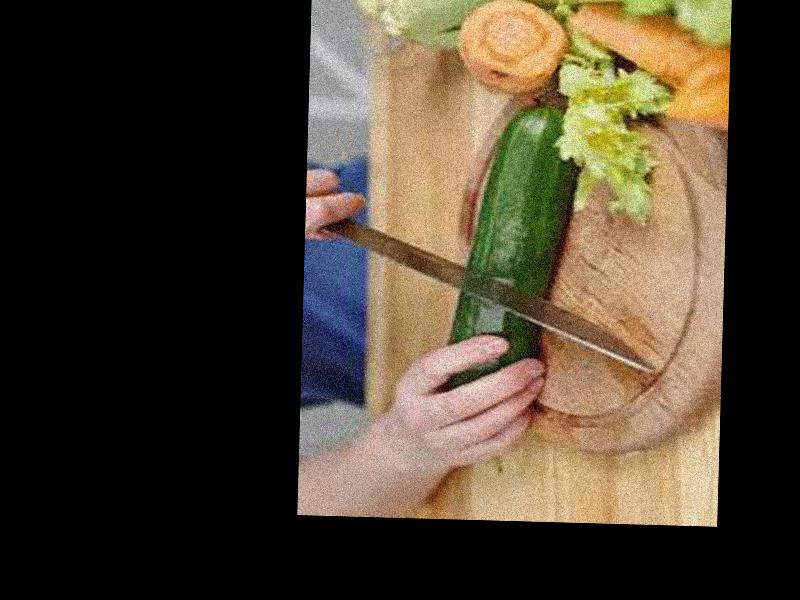Cucumber: (446, 101, 574, 392)
